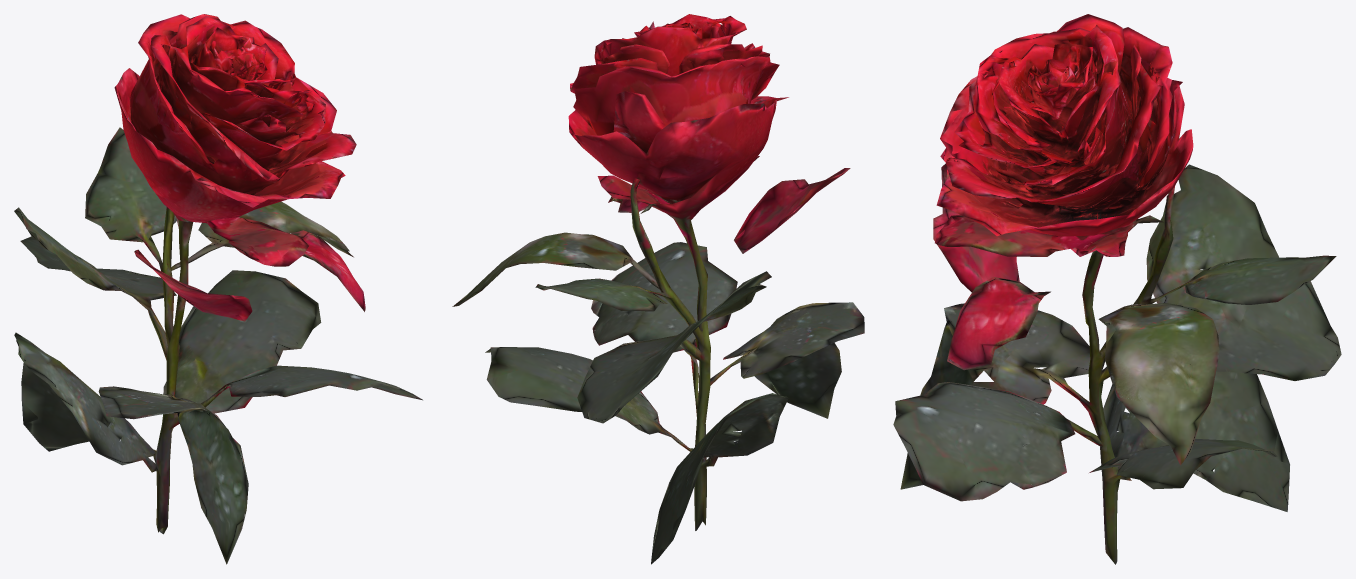
Rendered from rose_3d.glb.
The picture shows the model from 3 angles, left to right: view 1: azimuth 30°, elevation 25°; view 2: azimuth 150°, elevation 25°; view 3: azimuth 270°, elevation 25°; orthographic projection. The views are drawn at different scales.
Bounding box in the file's own units: 1.38 × 1.98 × 1.47.
1 material, 1 textured.
